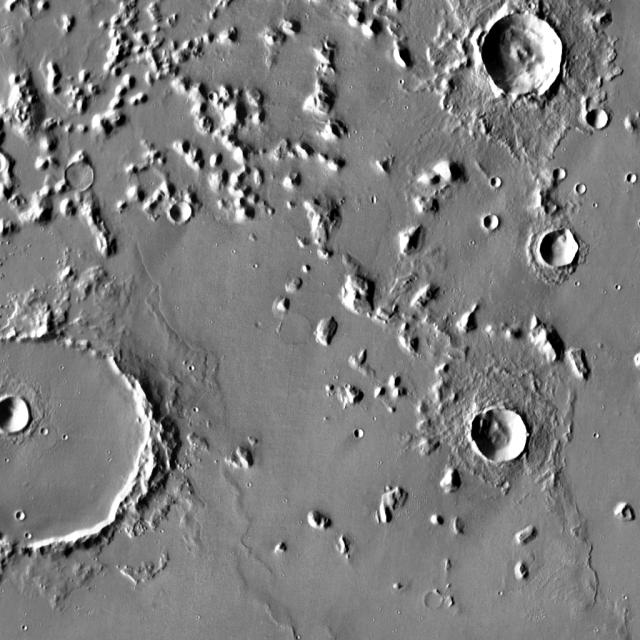crater: (0, 334, 150, 548), (424, 324, 594, 492), (484, 18, 566, 100), (475, 410, 530, 465), (542, 233, 580, 271), (0, 399, 32, 435), (67, 163, 97, 192), (590, 110, 610, 130), (173, 203, 193, 223), (428, 596, 443, 612), (486, 218, 500, 232), (556, 172, 567, 183), (19, 513, 29, 523), (629, 174, 639, 184), (356, 432, 366, 441), (493, 181, 502, 190), (578, 188, 586, 196), (212, 94, 220, 102), (35, 422, 43, 429), (523, 0, 530, 4)
